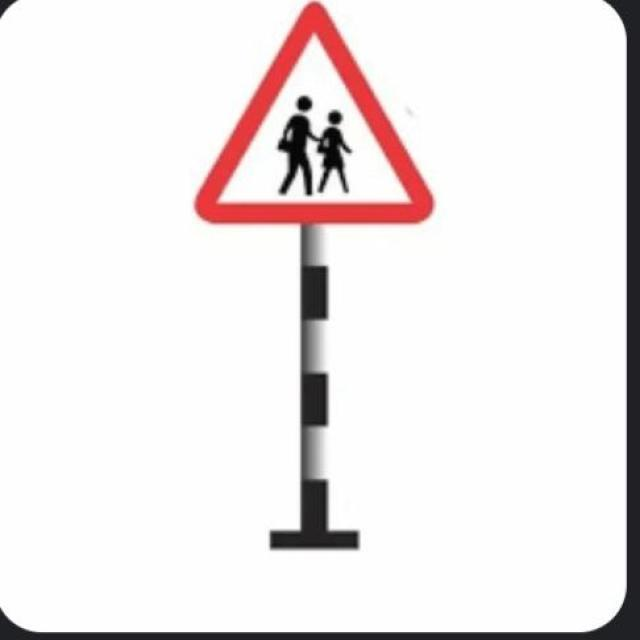school ahead: (198, 15, 433, 227)
